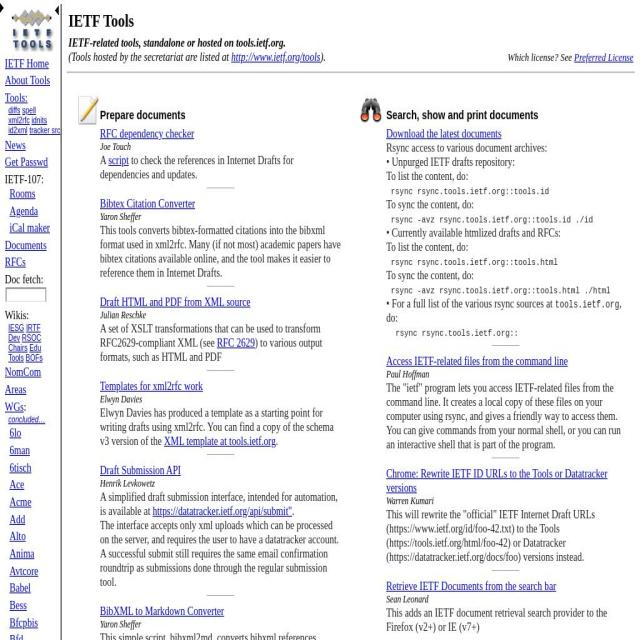field: (5, 288, 46, 302)
heading: (68, 9, 447, 32)
image: (9, 5, 54, 52), (76, 95, 99, 125), (359, 95, 382, 125), (54, 5, 59, 15), (0, 4, 4, 14)
link: (386, 466, 608, 494), (386, 353, 568, 368), (386, 578, 556, 592), (100, 294, 250, 308), (152, 503, 292, 518), (100, 604, 224, 618), (164, 433, 276, 448), (386, 126, 501, 140), (99, 378, 203, 392), (99, 196, 195, 210), (100, 126, 194, 140), (231, 49, 320, 63), (100, 462, 180, 477), (574, 50, 634, 63), (4, 74, 50, 88), (4, 56, 49, 70), (4, 155, 48, 169), (4, 238, 47, 252), (10, 221, 50, 235), (217, 335, 256, 349), (4, 365, 42, 379), (9, 204, 39, 218), (9, 564, 39, 578), (9, 615, 39, 629), (8, 414, 46, 424), (9, 186, 36, 200), (9, 546, 35, 560), (28, 124, 61, 135), (4, 382, 27, 397), (5, 90, 28, 104), (9, 460, 32, 474), (9, 494, 32, 508), (9, 581, 32, 595), (4, 138, 26, 152), (4, 255, 26, 269), (108, 152, 130, 166), (10, 443, 30, 458), (4, 399, 24, 413), (8, 114, 31, 125), (10, 598, 28, 612), (9, 478, 25, 492), (10, 512, 26, 526), (10, 529, 26, 543), (8, 124, 28, 135), (22, 332, 42, 342), (8, 342, 28, 352), (9, 426, 22, 440), (32, 114, 48, 125), (8, 322, 25, 332), (26, 352, 43, 362), (8, 352, 24, 362), (22, 104, 36, 115), (8, 104, 21, 115), (26, 322, 40, 332), (8, 332, 21, 342), (29, 342, 41, 352), (9, 632, 24, 640)
text: (99, 518, 339, 588), (386, 380, 620, 451), (100, 223, 340, 279), (386, 507, 595, 563), (99, 405, 334, 447), (100, 489, 338, 518), (386, 296, 621, 324), (100, 335, 322, 363), (386, 605, 608, 633), (100, 321, 320, 349), (99, 152, 294, 181), (68, 35, 286, 49), (391, 284, 611, 297), (391, 213, 594, 226), (386, 225, 560, 239), (386, 296, 555, 310), (68, 49, 232, 63), (386, 140, 548, 154), (100, 630, 316, 640), (391, 256, 558, 268), (386, 108, 538, 121), (391, 185, 550, 197), (386, 154, 515, 168), (395, 327, 519, 339), (386, 197, 474, 211), (386, 268, 474, 282), (386, 168, 468, 182), (386, 239, 468, 253), (100, 108, 186, 121), (5, 272, 60, 288), (508, 50, 574, 63), (555, 298, 620, 311), (99, 477, 155, 489), (386, 494, 434, 507), (100, 308, 146, 321), (4, 172, 44, 186), (386, 368, 430, 380), (100, 210, 142, 222), (100, 393, 142, 405), (100, 618, 142, 630), (386, 593, 428, 605), (4, 308, 30, 322), (100, 140, 130, 152), (100, 152, 108, 166), (320, 49, 326, 63), (292, 503, 295, 518), (23, 399, 26, 413), (276, 433, 278, 448)
